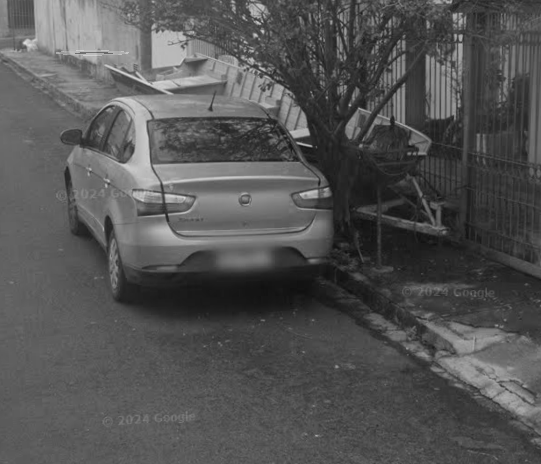car: (58, 86, 341, 308)
